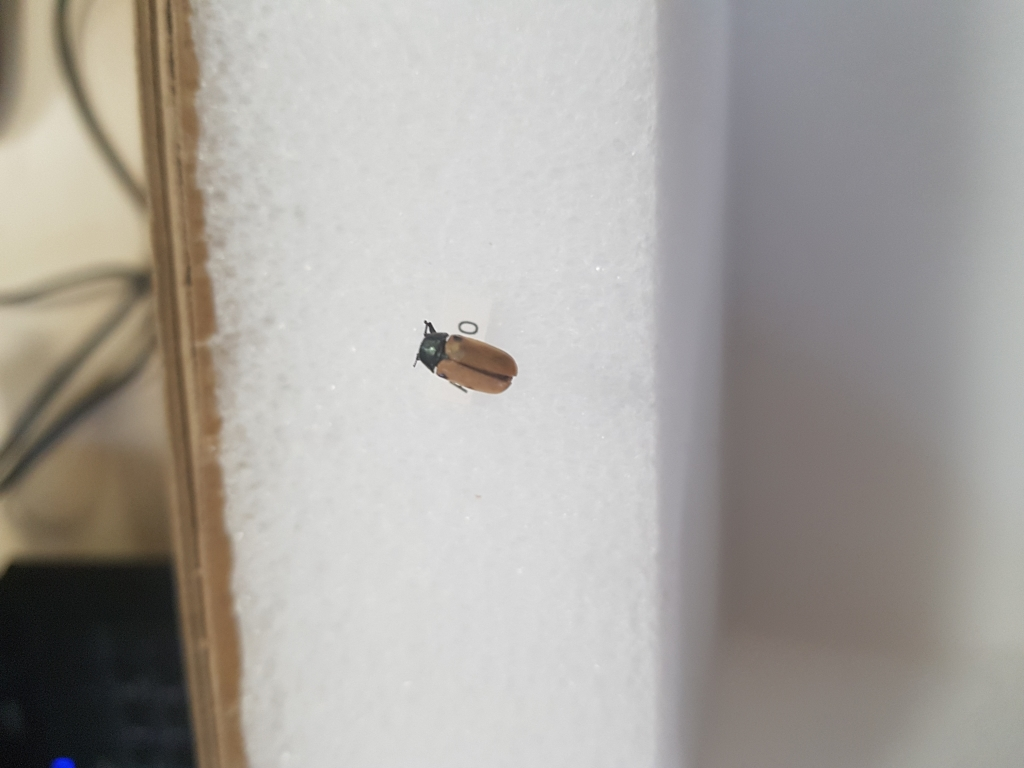Labidostomis_propinqua: (413, 319, 522, 400)
